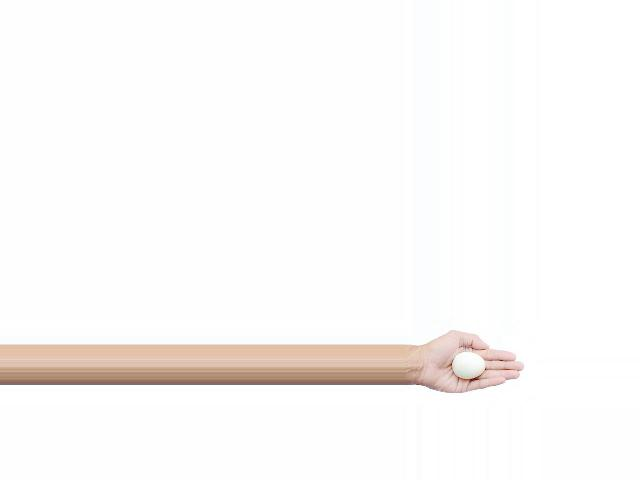egg: (452, 352, 486, 378)
